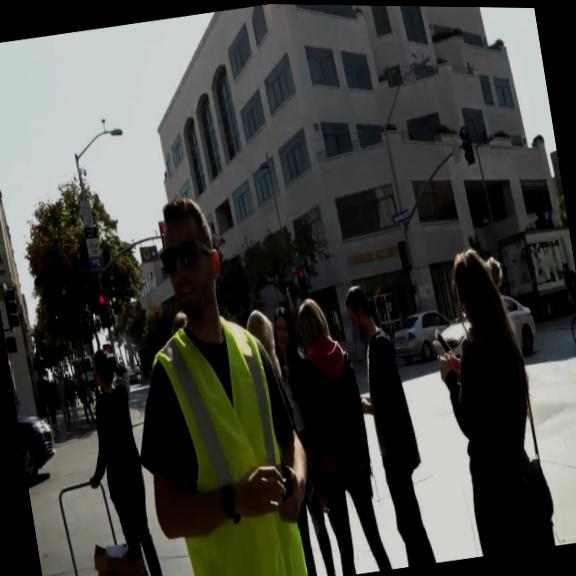safety_vest: (141, 305, 310, 576)
